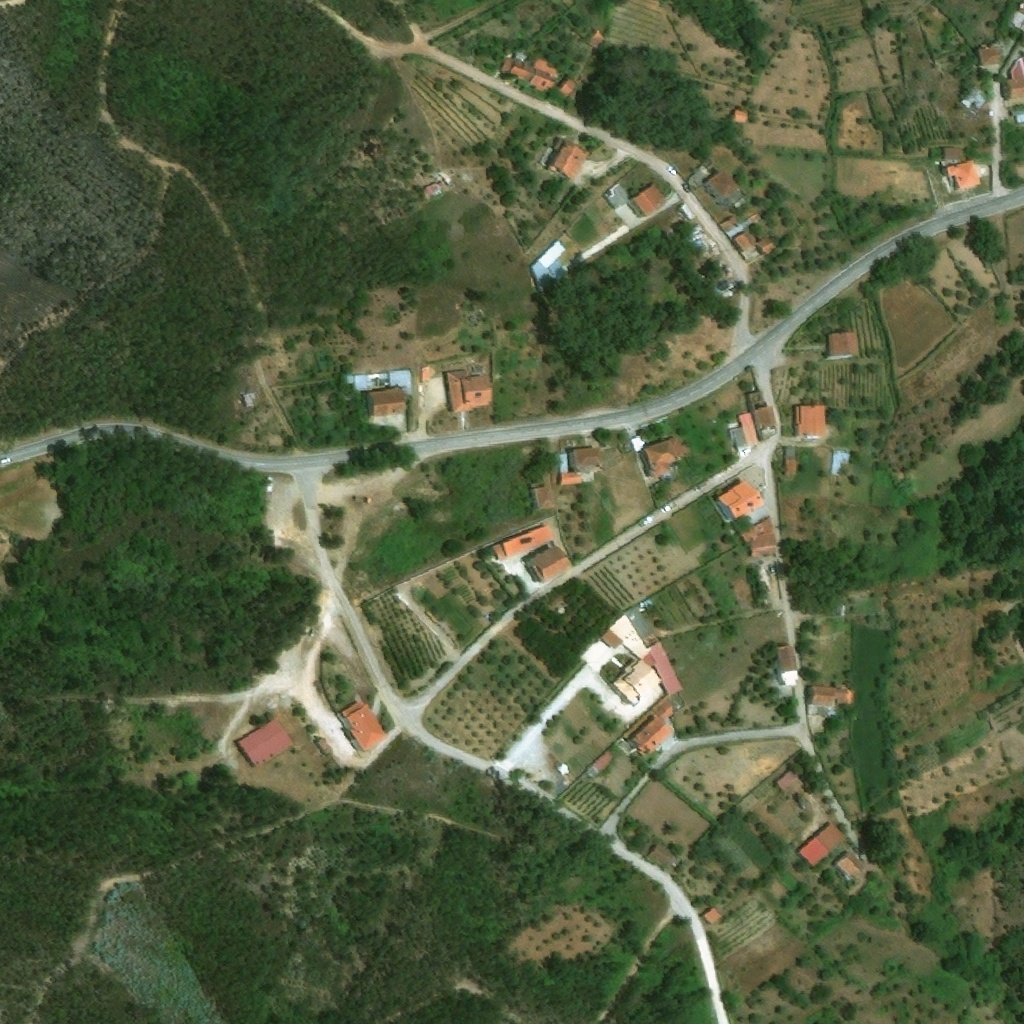0 no-damage: (599, 613, 682, 704), (347, 369, 411, 416), (235, 718, 293, 768), (629, 696, 675, 759), (341, 699, 387, 751), (491, 523, 553, 561), (797, 822, 846, 866), (445, 370, 494, 412), (716, 480, 763, 519), (526, 544, 571, 582), (531, 239, 567, 280), (643, 437, 680, 476), (553, 144, 588, 179), (631, 182, 667, 215), (623, 604, 655, 640), (707, 168, 741, 200), (947, 159, 981, 189), (499, 53, 533, 82), (795, 404, 826, 435), (835, 849, 868, 878), (740, 517, 775, 542), (811, 686, 854, 706), (567, 446, 601, 471), (648, 844, 680, 869), (829, 330, 858, 356), (530, 69, 557, 94), (775, 643, 798, 672), (830, 449, 852, 476), (751, 532, 777, 554), (534, 484, 557, 508), (980, 44, 1006, 65), (607, 182, 627, 209), (755, 405, 776, 429), (733, 228, 756, 249), (776, 769, 798, 790), (591, 749, 613, 770), (556, 77, 577, 99), (421, 179, 447, 196), (756, 234, 778, 254), (701, 906, 721, 926), (741, 421, 758, 444), (533, 58, 556, 75), (673, 434, 688, 459), (732, 425, 747, 448), (719, 214, 739, 231), (588, 28, 604, 48), (779, 670, 798, 685), (315, 738, 332, 753), (561, 472, 582, 484), (761, 425, 776, 440), (784, 458, 797, 475), (945, 146, 963, 158), (733, 109, 748, 123), (560, 453, 569, 473), (421, 365, 431, 382), (785, 445, 797, 459), (242, 393, 254, 406), (711, 904, 724, 916), (266, 477, 272, 493)
4 un-classified: (1010, 57, 1023, 97), (1009, 10, 1023, 30), (1011, 108, 1023, 122)
